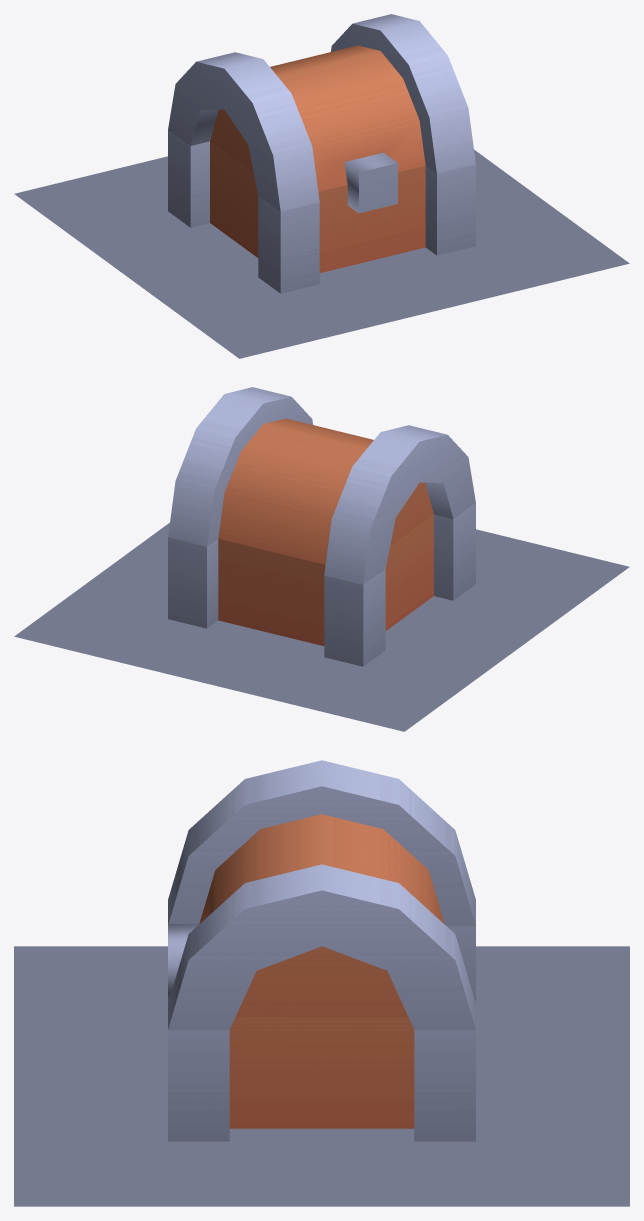
The model's file is floor_chest.glb.
The picture shows the model from 3 angles, top to bottom: view 1: azimuth 30°, elevation 25°; view 2: azimuth 150°, elevation 25°; view 3: azimuth 270°, elevation 25°; orthographic projection. The views are drawn at different scales.
Parts seen in each view (by area): view 1: floor; view 2: floor; view 3: floor.
Part boxes in pixels (bbox=[...]): floor: bbox=[14, 14, 629, 358]; floor: bbox=[14, 387, 629, 731]; floor: bbox=[14, 760, 629, 1206].
Size of the model in its own units: 1 by 0.45 by 1.
2 materials, 2 textured.
